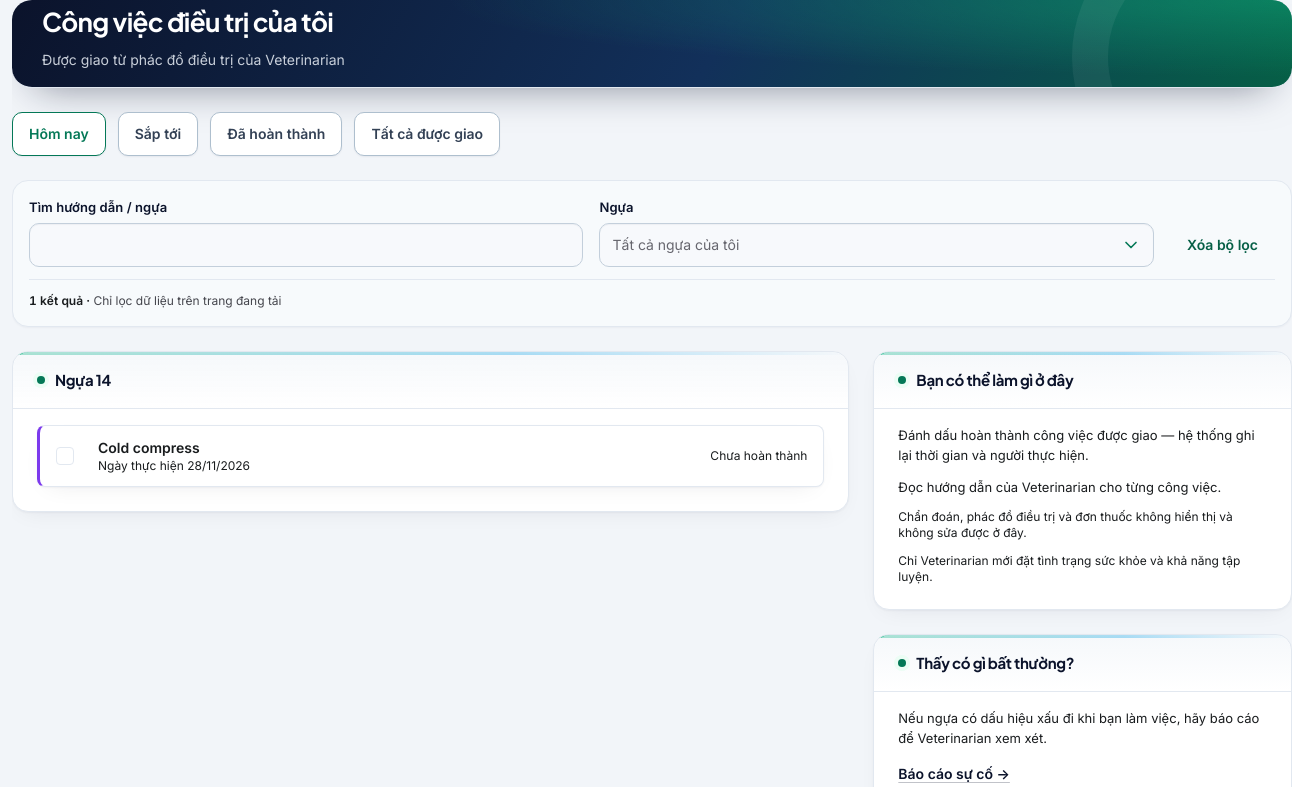
Test: preserves failed completion, masks server clinical error text and offers list retry
The image size is (1292, 787).
Step 1. Click the checkbox → (65, 456), box [56, 448, 74, 466]
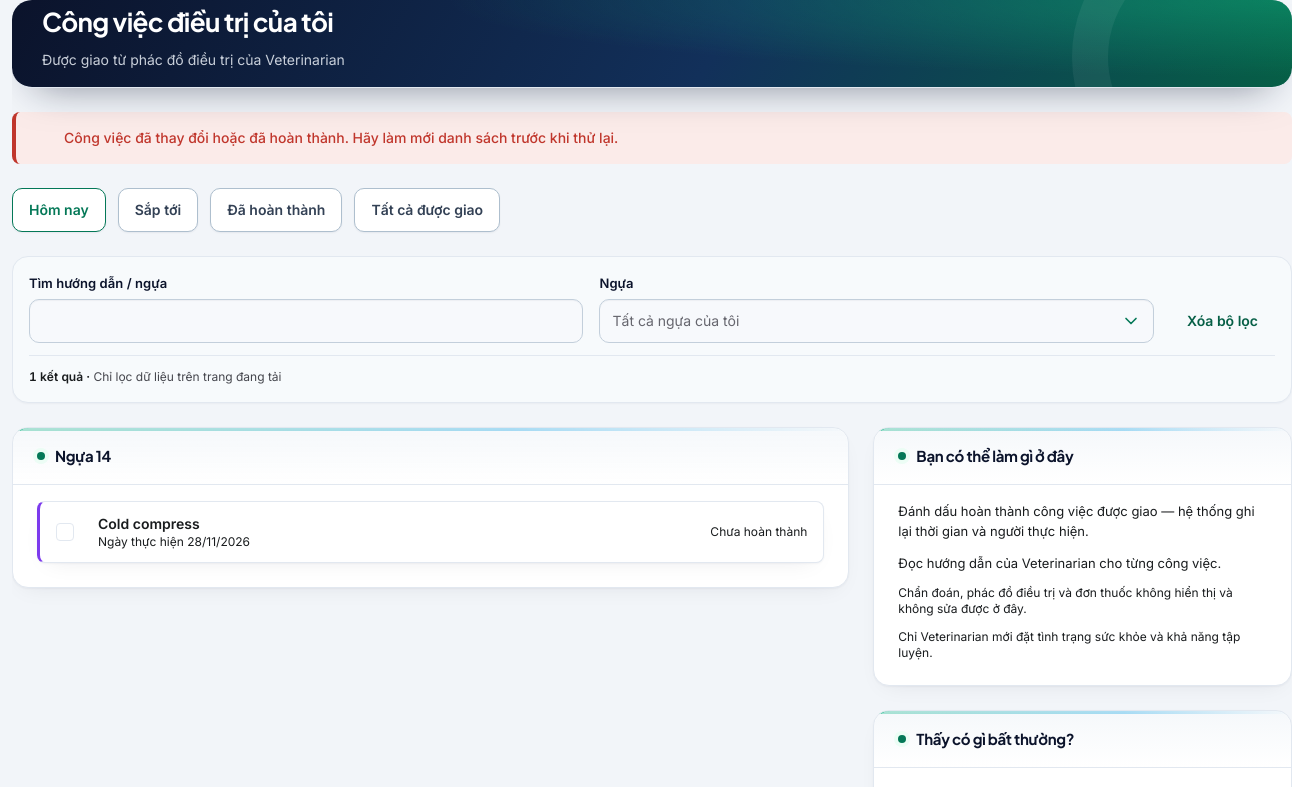
Expected: the checkbox is not checked, [56, 524, 74, 542]
Expected: the 1st message shows "Công việc đã thay đổi hoặc đã hoàn thành", [64, 130, 618, 146]
